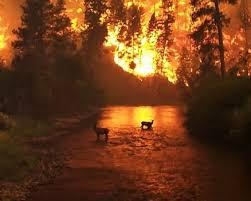fire: (95, 0, 249, 85)
